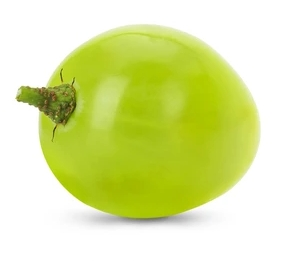grapes: (18, 18, 263, 234)
